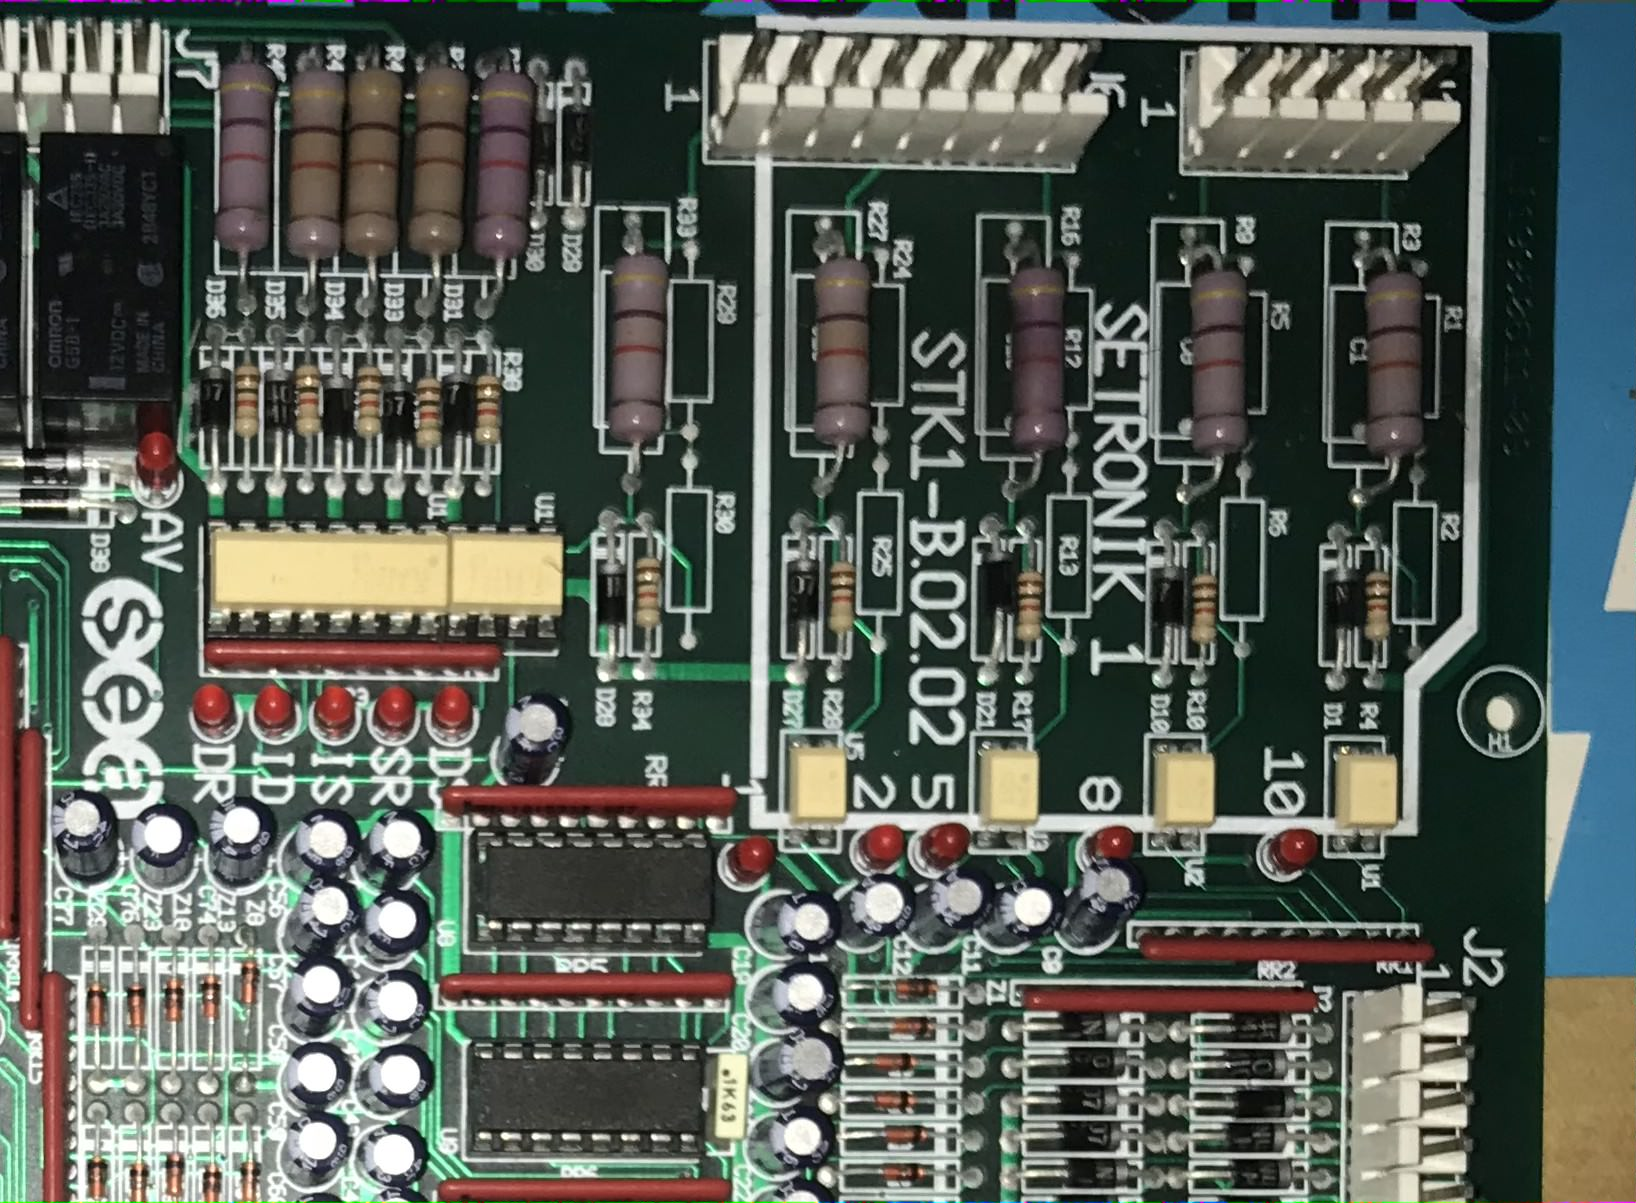Capacitor: (1058, 857, 1150, 950), (492, 692, 580, 786), (44, 786, 124, 889), (273, 953, 356, 1051), (903, 866, 995, 954), (357, 804, 439, 894), (206, 794, 281, 890), (281, 877, 363, 963), (748, 1032, 843, 1105), (749, 890, 848, 960), (127, 802, 203, 892), (743, 1106, 835, 1181), (835, 871, 918, 953), (281, 805, 361, 890), (354, 1042, 439, 1119), (354, 887, 432, 969), (278, 1037, 354, 1120), (743, 963, 836, 1032), (356, 967, 434, 1044), (352, 1119, 433, 1192), (979, 877, 1061, 948), (279, 1110, 351, 1192)
Diode: (559, 91, 597, 198), (194, 360, 234, 448), (1216, 1084, 1301, 1124), (525, 91, 556, 199), (1150, 556, 1191, 636), (6, 487, 99, 522), (594, 551, 630, 644), (381, 367, 417, 459), (13, 446, 98, 483), (1326, 561, 1365, 640), (1219, 1009, 1298, 1048), (320, 365, 356, 451), (1052, 1156, 1134, 1193), (1216, 1045, 1298, 1082), (785, 550, 821, 635), (441, 368, 478, 448), (981, 548, 1017, 628), (263, 362, 298, 445), (1050, 1081, 1124, 1119), (1210, 1120, 1291, 1155), (1054, 1115, 1125, 1153), (1053, 1044, 1130, 1079), (1214, 1159, 1296, 1189), (232, 959, 262, 1040), (1047, 1011, 1125, 1039), (862, 978, 934, 1005), (158, 969, 187, 1028), (196, 974, 226, 1030), (81, 978, 111, 1034), (161, 1145, 191, 1200), (121, 978, 149, 1034), (86, 1148, 112, 1203), (197, 1156, 226, 1203), (868, 1162, 930, 1184), (868, 1051, 920, 1076), (126, 1155, 152, 1203), (879, 1018, 939, 1038), (238, 1152, 260, 1203), (866, 1090, 920, 1112), (874, 1124, 934, 1143)
LED: (130, 426, 188, 504), (188, 678, 244, 744), (246, 678, 298, 744), (1260, 826, 1320, 882), (718, 831, 776, 887), (311, 683, 359, 744), (431, 681, 476, 744), (918, 819, 972, 871), (855, 821, 906, 874), (375, 683, 418, 744), (1087, 824, 1139, 868)
Resistor: (1353, 262, 1438, 478), (800, 254, 882, 466), (1181, 260, 1261, 473), (207, 55, 286, 269), (600, 246, 676, 467), (997, 258, 1073, 474), (464, 64, 539, 277), (277, 58, 351, 274), (404, 55, 475, 267), (340, 57, 406, 271), (822, 550, 862, 642), (627, 548, 668, 639), (226, 354, 265, 448), (476, 368, 512, 464), (1363, 559, 1398, 654), (1188, 564, 1223, 654), (1017, 561, 1049, 659), (291, 354, 326, 441), (352, 358, 385, 448), (413, 372, 448, 455)
